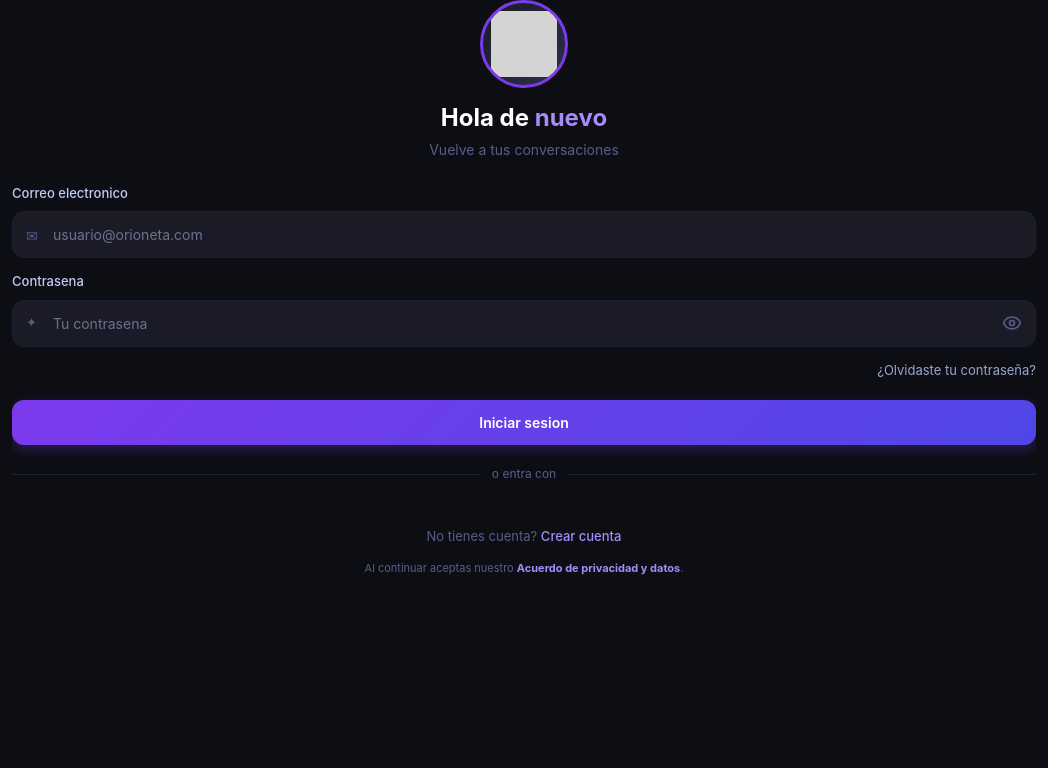
Test case: LoginPage › shows api error on login failure
Type "test@test.com" into the field with placeholder "usuario@orioneta.com" at [524, 235], box 12,211 -> 1036,258
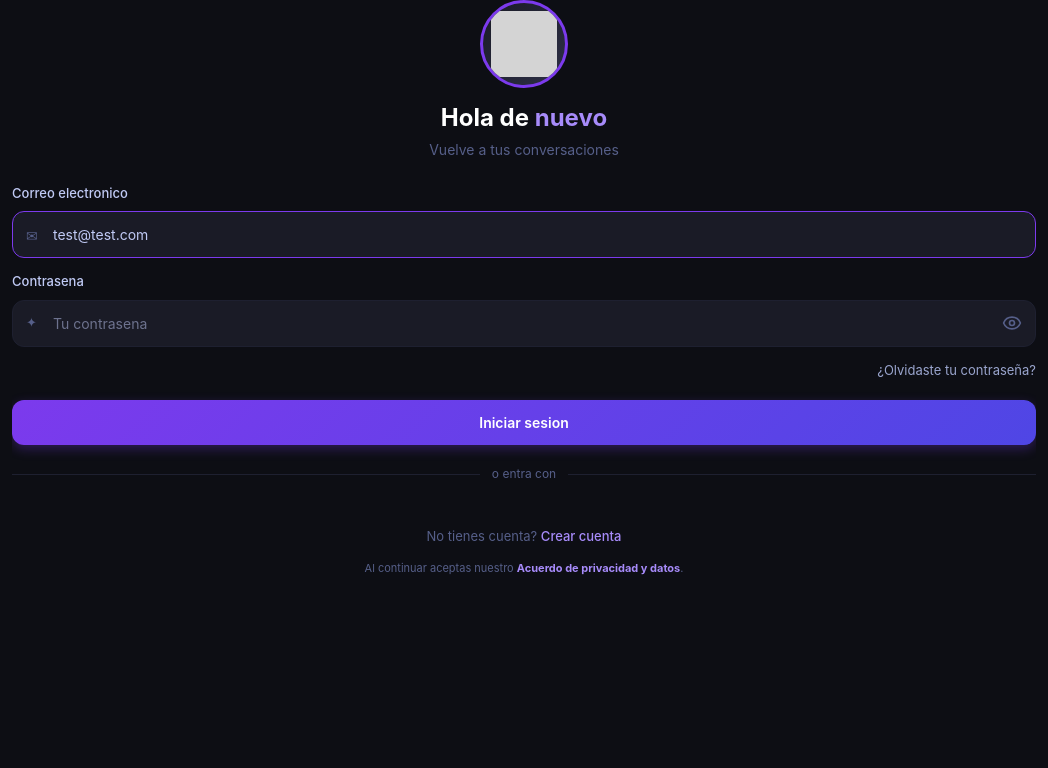
Type "password123" into the password field with placeholder "Tu contrasena" at [524, 323], box 12,300 -> 1036,347
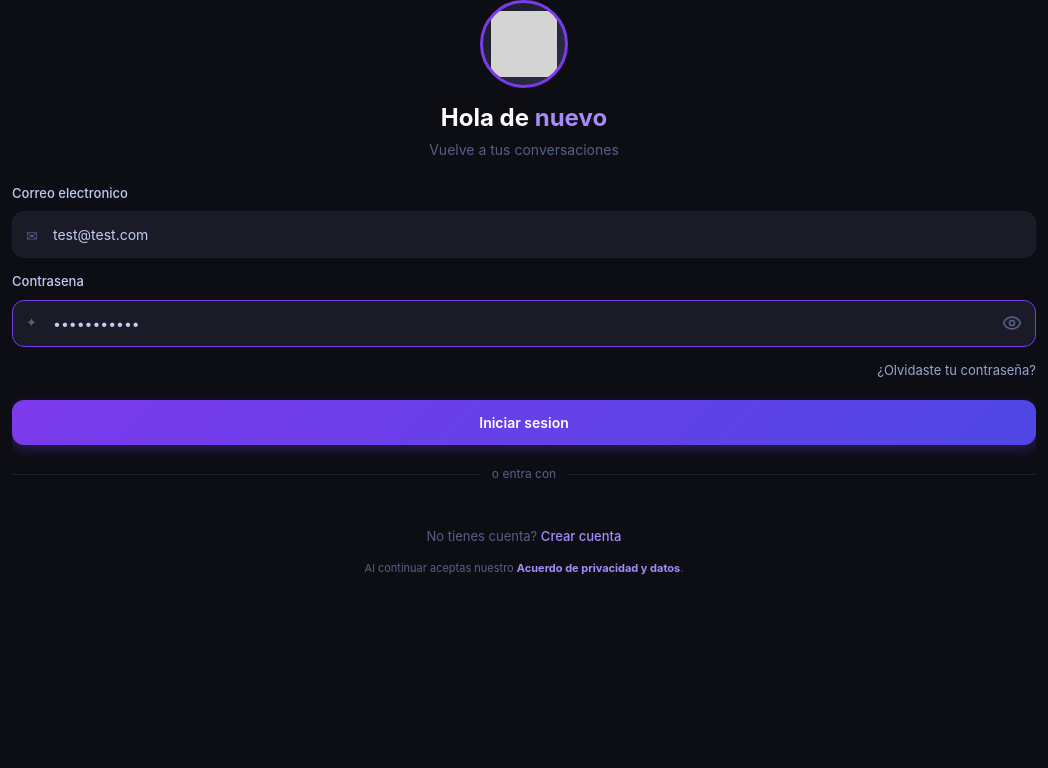
Click the button "Iniciar sesion" at [524, 423], box 12,400 -> 1036,445
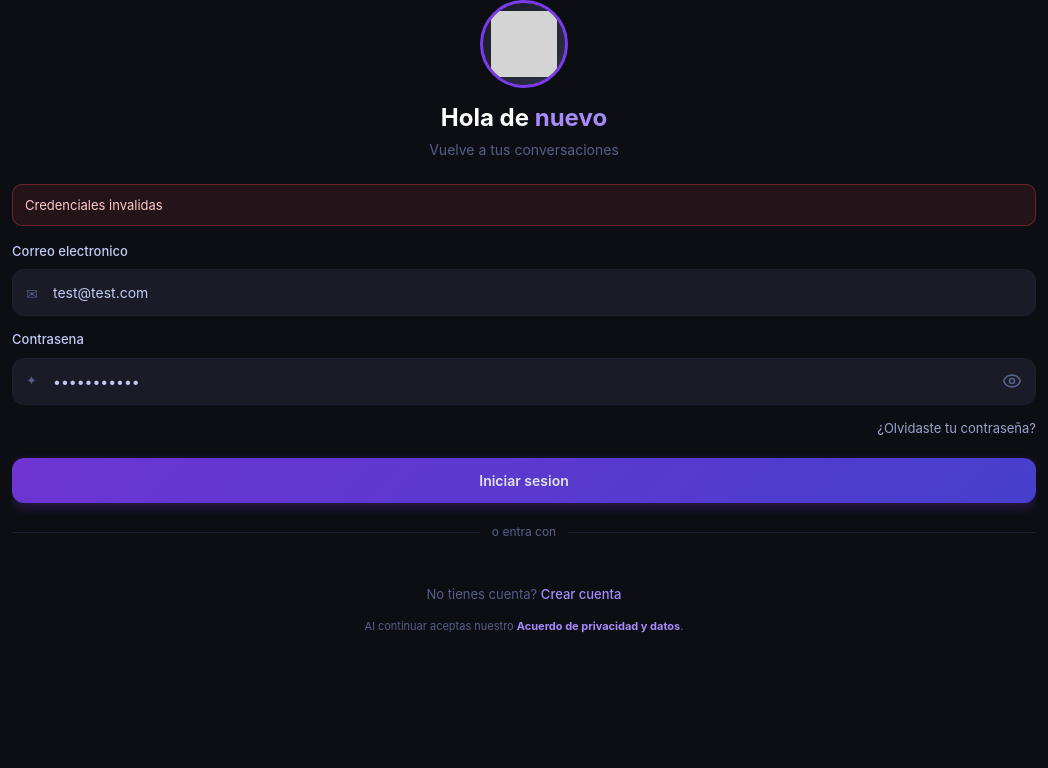
Expected: the text "Credenciales invalidas" is shown, 12,184 -> 1036,226
